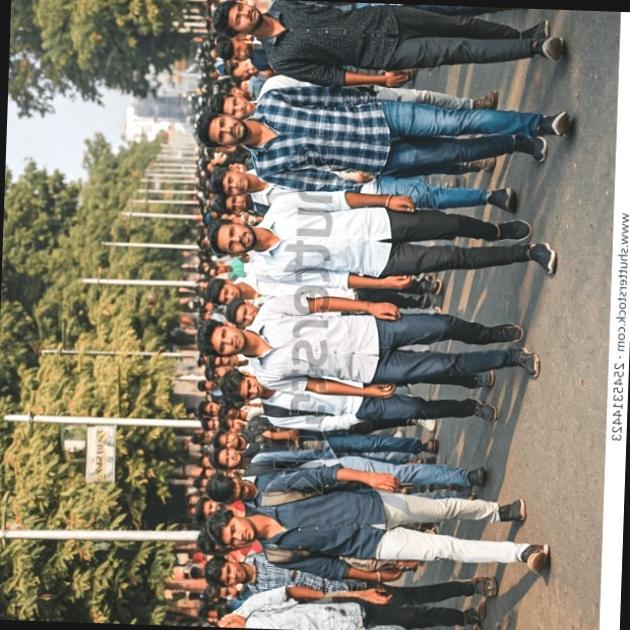there is a person: (196, 102, 577, 203), (198, 0, 581, 100), (198, 208, 574, 309), (194, 315, 556, 399), (252, 468, 448, 595)
